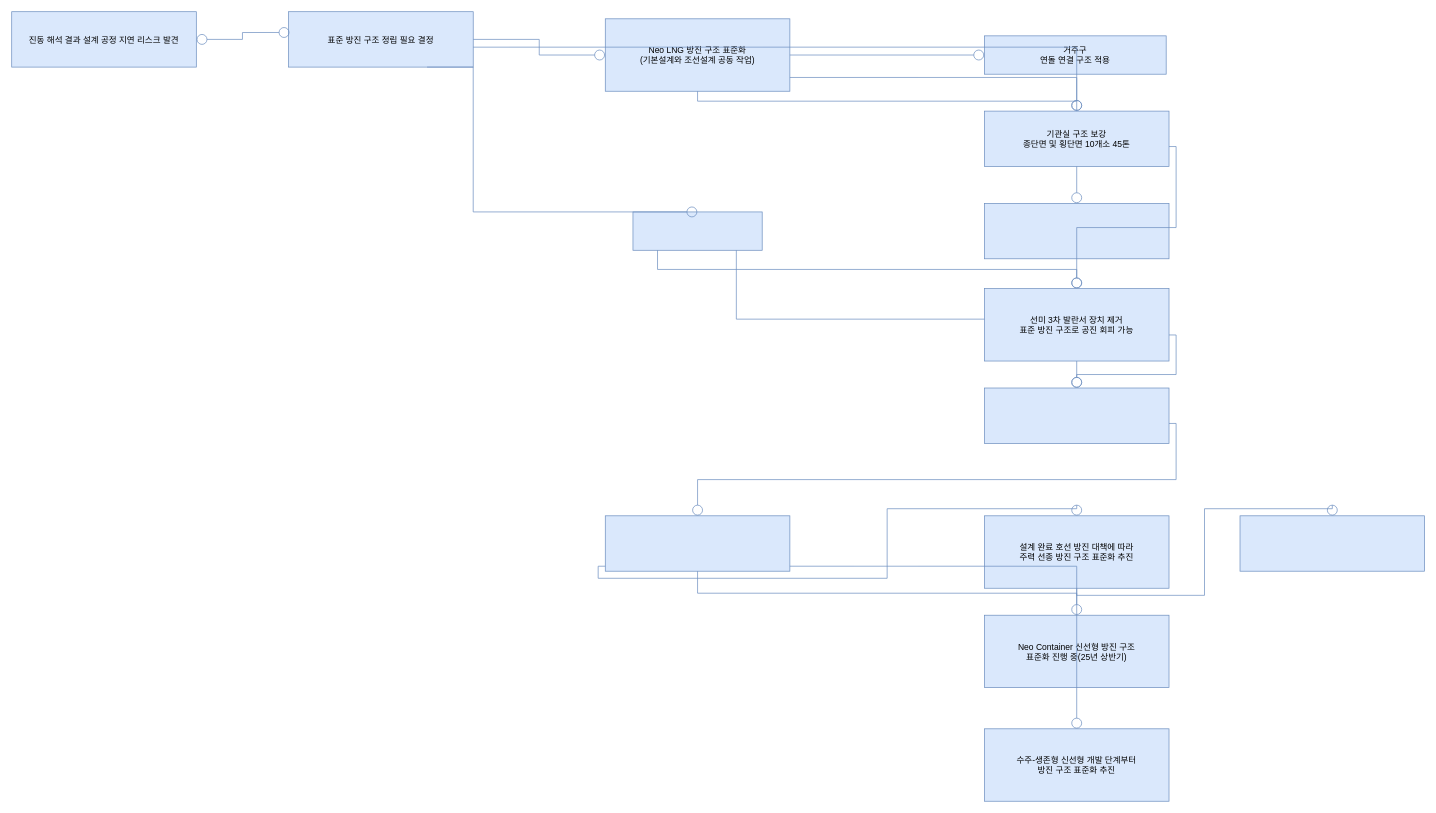
This 1436x813 diagram has some shape labels left out. The shapes that lost their labels are listed below. From the top down, each one's box as (x1, y1, x2, y2) in pixels, then its label:
(632, 211, 762, 250): 방진 장치 최적화
(984, 203, 1169, 259): 표준선 일반 배치도와 Key Plan 반영 완료
(984, 387, 1169, 443): 주기관 방진 장치와 톱브레이싱 적용 진동 기준 만족
(605, 515, 790, 571): 주력 선종 방진 구조 표준화와 설계와 건조 생산성 향상
(1239, 515, 1425, 571): 차기 프로젝트 설계 신속 반영
